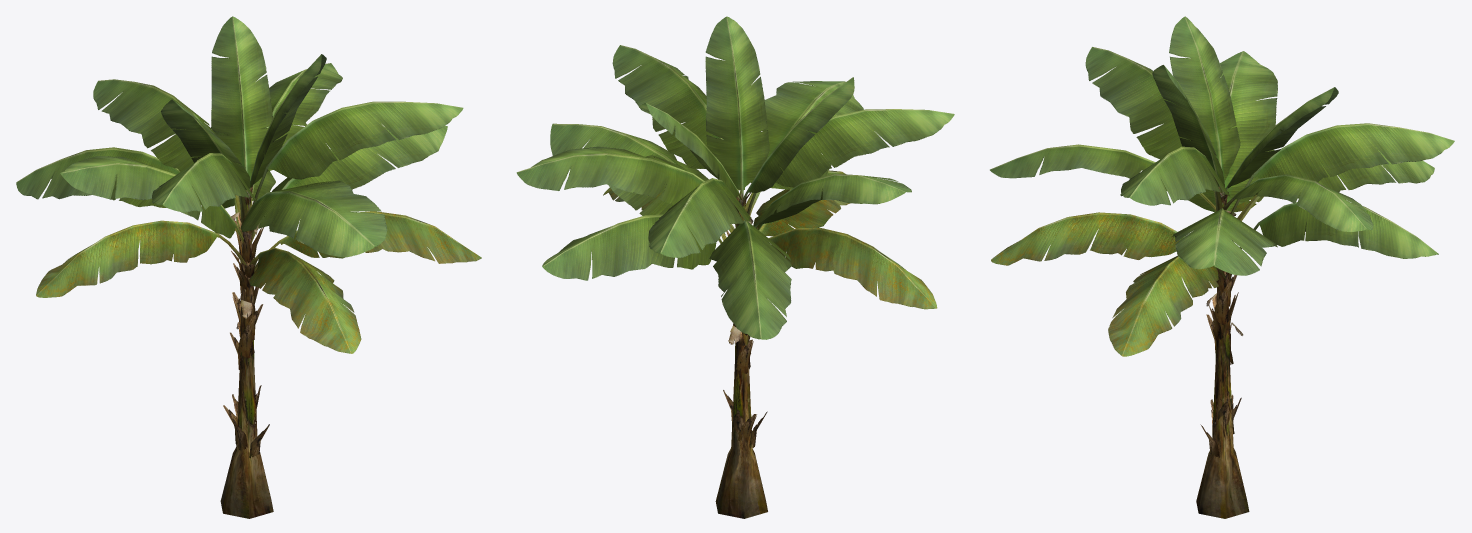
The model's file is MK4_BananaTree3.DAE.
3 renders of one model, left to right at view 1: azimuth 30°, elevation 25°; view 2: azimuth 150°, elevation 25°; view 3: azimuth 270°, elevation 25°, orthographic.
Parts seen in each view (by area): view 1: MK4_BananaTree3; view 2: MK4_BananaTree3; view 3: MK4_BananaTree3.
Part boxes in pixels (bbox=[...]): MK4_BananaTree3: bbox=[16, 16, 481, 518]; MK4_BananaTree3: bbox=[516, 16, 954, 518]; MK4_BananaTree3: bbox=[990, 16, 1454, 518].
Size of what is drawn, in the model's own units: 11.72 by 11.8 by 12.86.
